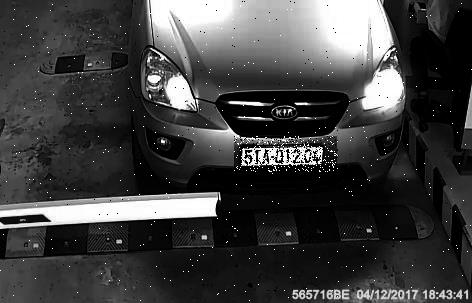License-plate: (236, 137, 340, 173)
